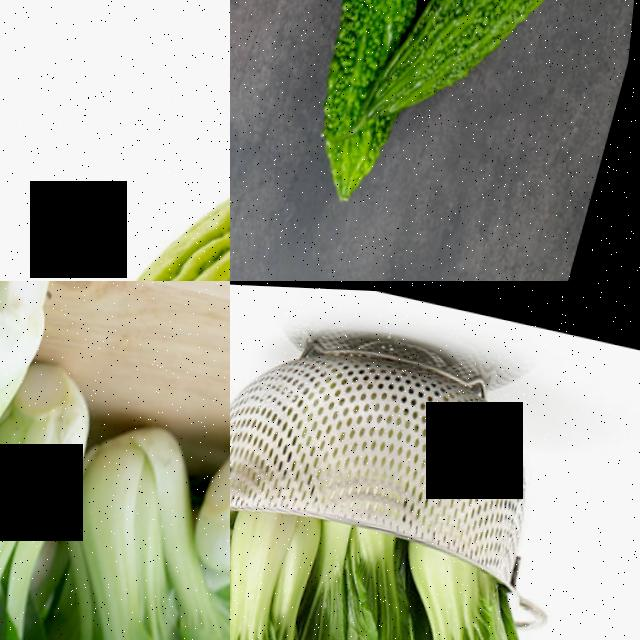bitter gourd: (0, 0, 230, 281), (421, 0, 588, 121)
bok choy: (0, 349, 115, 640), (57, 416, 206, 640), (230, 501, 358, 640), (322, 515, 447, 640), (384, 562, 583, 640)
